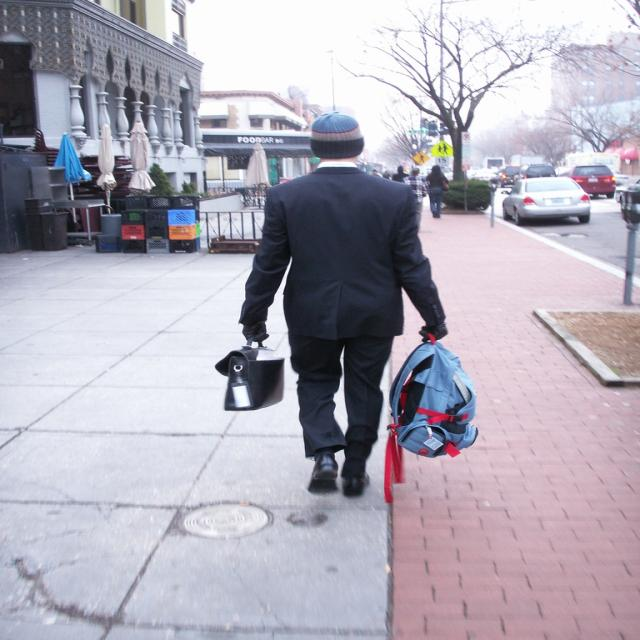backpack: (386, 329, 483, 459), (219, 343, 283, 415)
